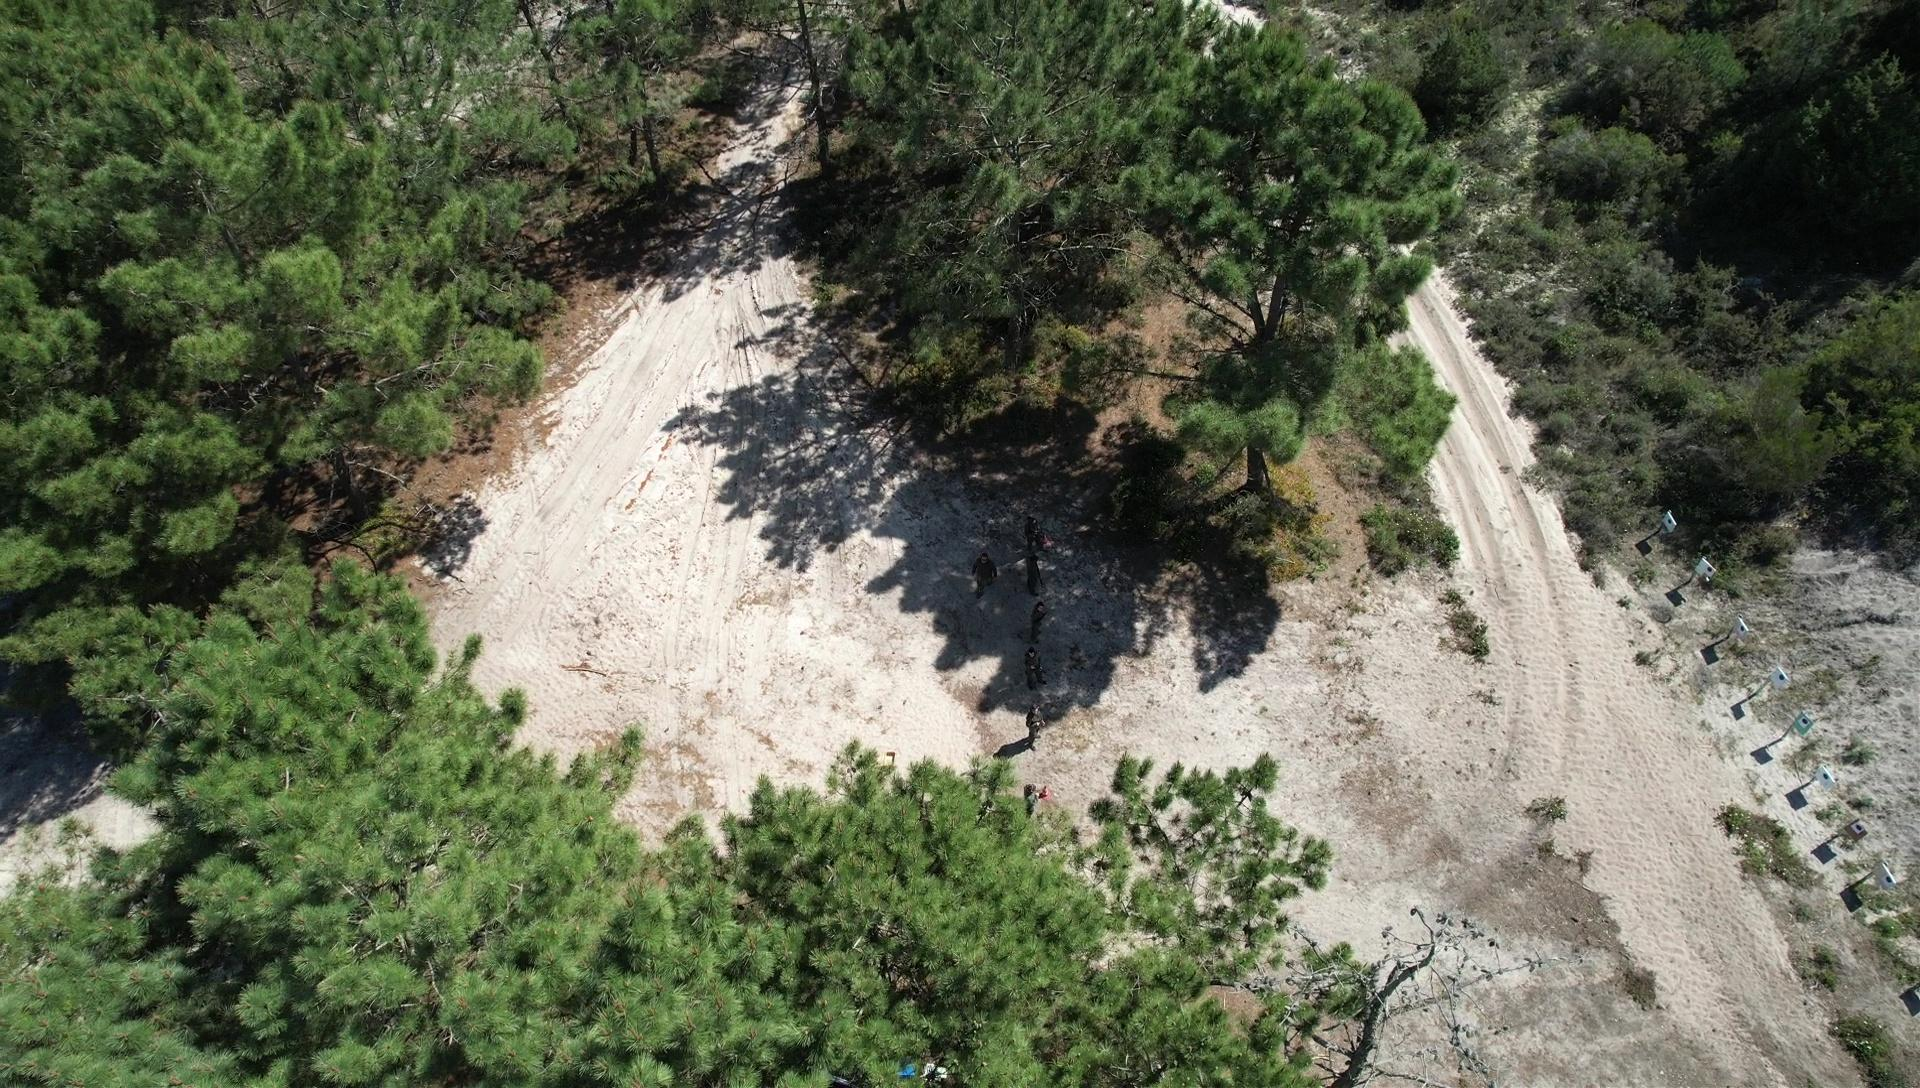Soldier: (1023, 700, 1047, 756), (1022, 546, 1047, 595), (973, 551, 998, 596), (1023, 644, 1044, 694), (1018, 516, 1048, 547), (1026, 604, 1048, 641)
